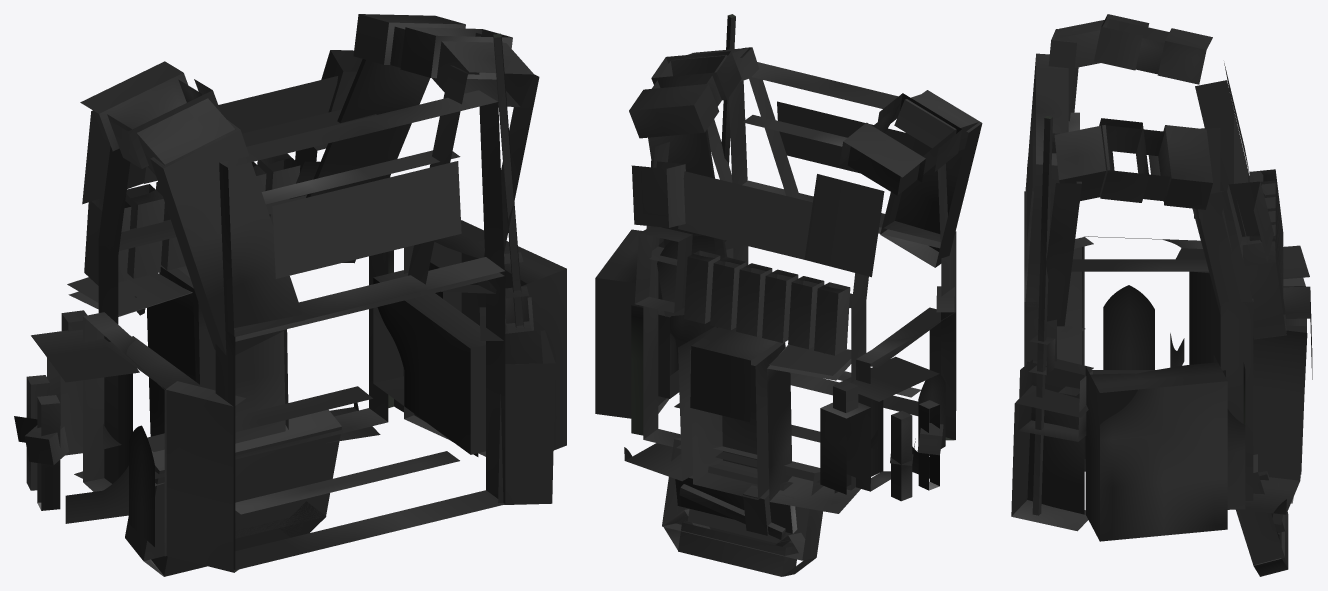
The model's file is swat_kit.obj.
The picture shows the model from 3 angles, left to right: view 1: azimuth 30°, elevation 25°; view 2: azimuth 150°, elevation 25°; view 3: azimuth 270°, elevation 25°; orthographic projection. The views are drawn at different scales.
Parts seen in each view (by area): view 1: plane; view 2: plane; view 3: plane.
Part boxes in pixels (box(x1,y1,x2,y2)): plane: box(14, 14, 566, 576); plane: box(595, 14, 982, 576); plane: box(1011, 14, 1312, 576).
Bounding box in the file's own units: 0.8753 × 1.03 × 0.5767.
